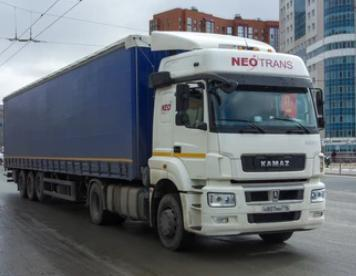vehicle: (3, 31, 326, 250)
